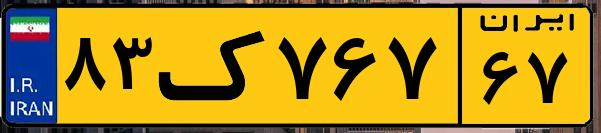3: (110, 28, 158, 98)
6: (330, 28, 385, 110), (475, 38, 525, 113)
7: (270, 28, 330, 110), (385, 28, 445, 110), (525, 38, 570, 115)
8: (57, 26, 110, 100)
ک: (158, 12, 270, 120)
